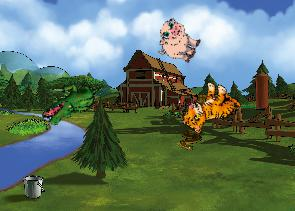crocodile: (39, 68, 103, 137)
pig: (151, 15, 205, 67)
tiger: (178, 75, 244, 144)
